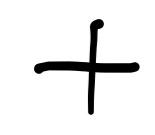plus: (32, 20, 137, 115)
